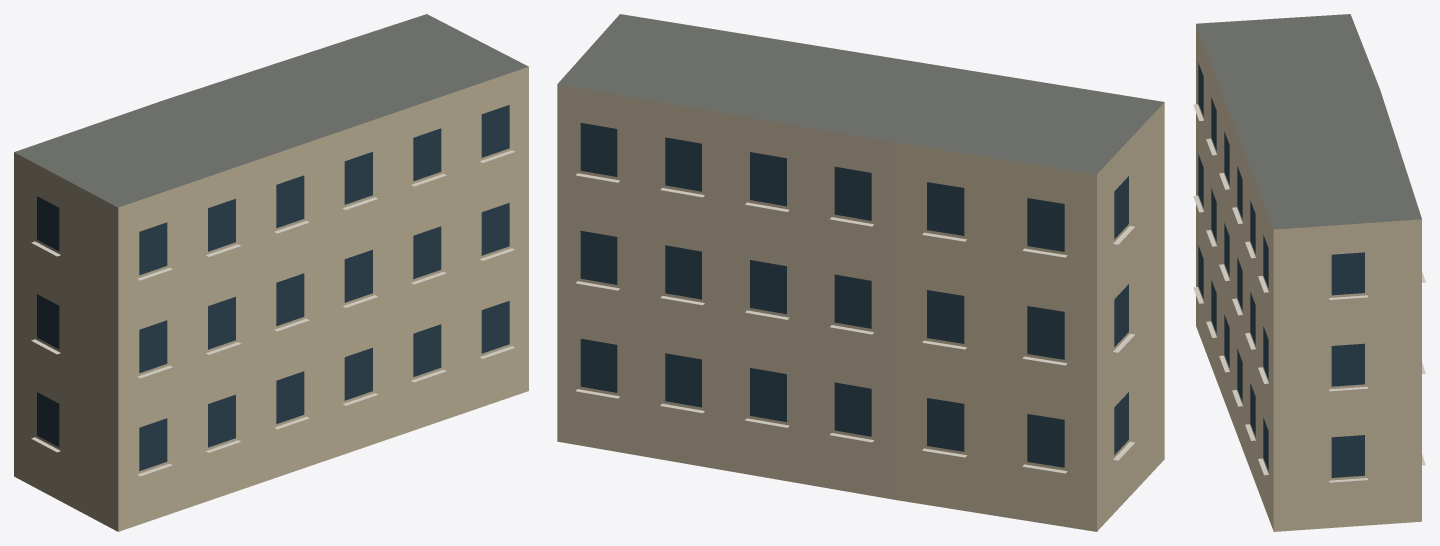
3 renders of one model, left to right at view 1: azimuth 30°, elevation 25°; view 2: azimuth 150°, elevation 25°; view 3: azimuth 270°, elevation 25°, orthographic. The views are drawn at different scales.
Parts seen in each view (by area): view 1: Footprint 0, Inferred window bays, Window sills; view 2: Footprint 0, Inferred window bays, Window sills; view 3: Footprint 0, Inferred window bays, Window sills.
Part boxes in pixels (box(x1,y1,x2,y2)): Footprint 0: box(14, 14, 528, 531); Inferred window bays: box(37, 105, 509, 470); Window sills: box(31, 150, 514, 476); Footprint 0: box(557, 14, 1164, 531); Inferred window bays: box(580, 123, 1128, 467); Window sills: box(575, 173, 1134, 473); Footprint 0: box(1196, 14, 1421, 531); Inferred window bays: box(1198, 63, 1364, 477); Window sills: box(1193, 104, 1425, 482).
Size of the model in its own units: 18.82 by 12.27 by 8.56.
